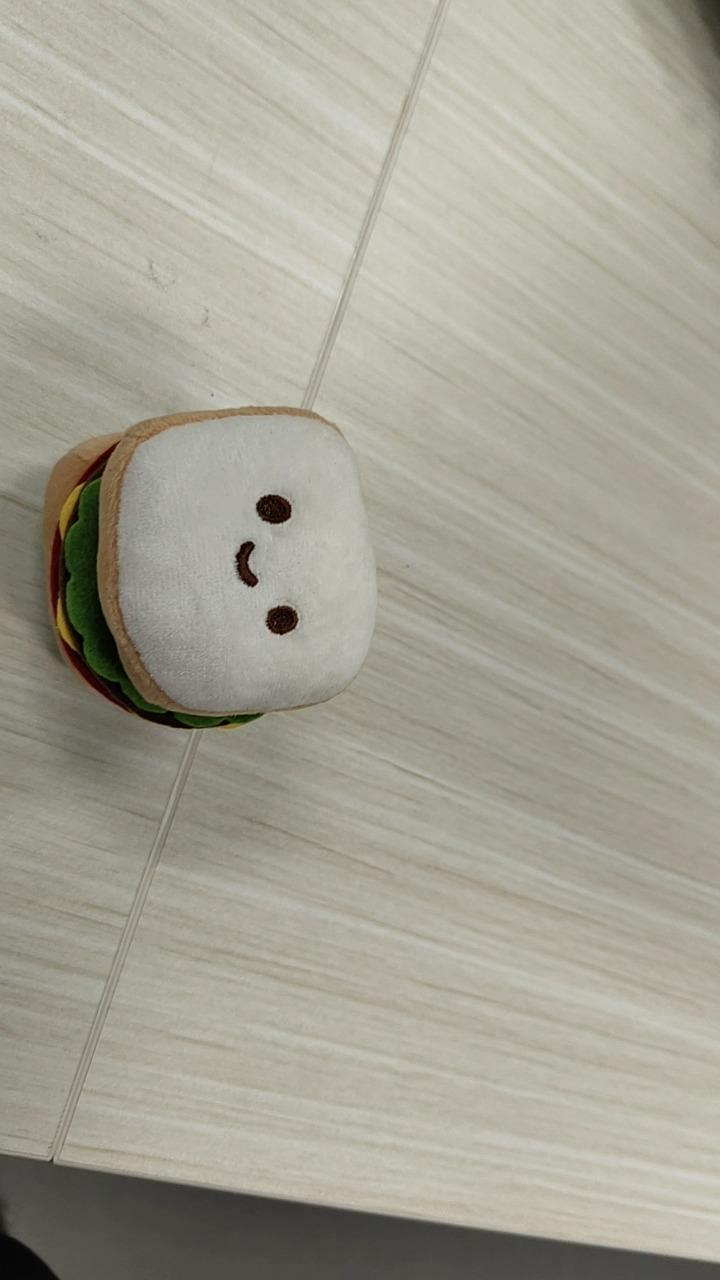objects: (41, 402, 378, 732)
